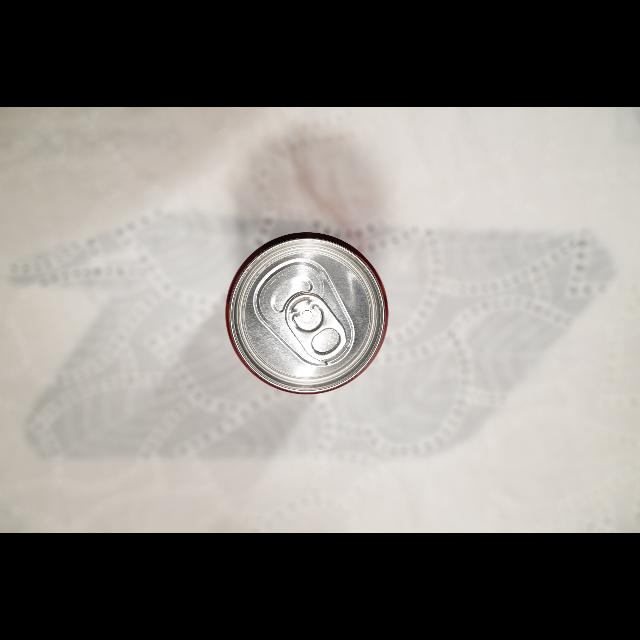coca_cola: (225, 231, 389, 395)
